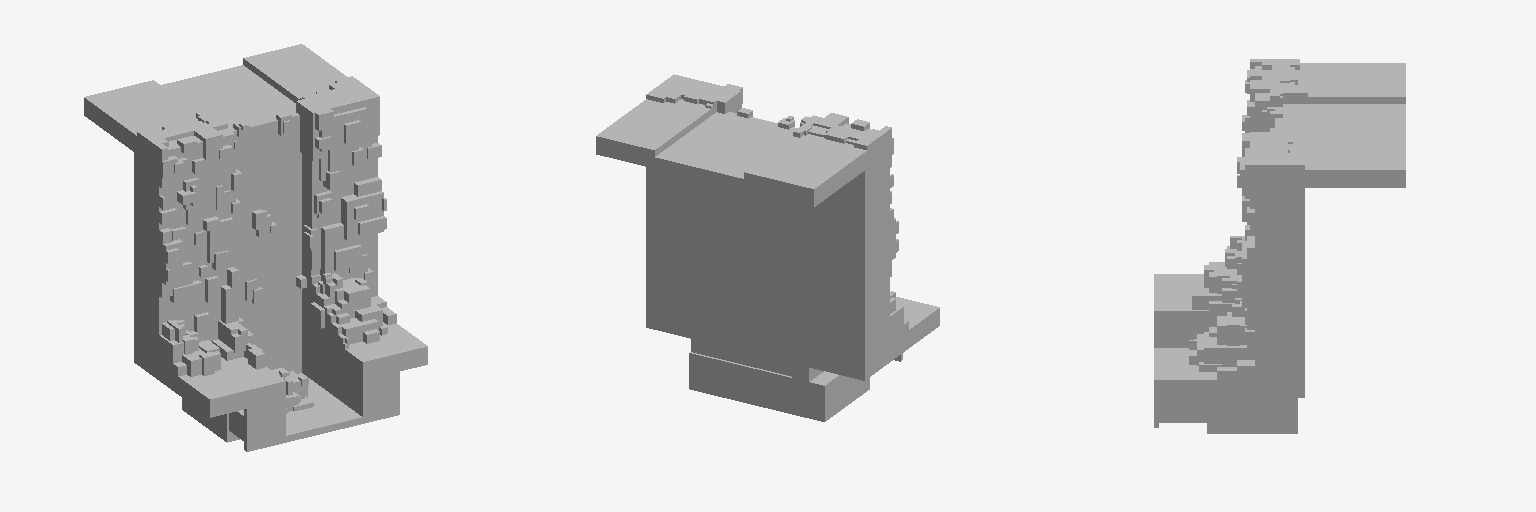
The model's file is Cliffs-1-Cliff Water Fall.obj.
3 renders of one model, left to right at view 1: azimuth 30°, elevation 25°; view 2: azimuth 150°, elevation 25°; view 3: azimuth 270°, elevation 25°, orthographic.
Parts seen in each view (by area): view 1: Cliff Water Fall; view 2: Cliff Water Fall; view 3: Cliff Water Fall.
Part boxes in pixels (bbox=[...]): Cliff Water Fall: bbox=[84, 44, 427, 451]; Cliff Water Fall: bbox=[596, 74, 939, 421]; Cliff Water Fall: bbox=[1154, 59, 1405, 433].
Bounding box in the file's own units: 10 × 12.6 × 10.